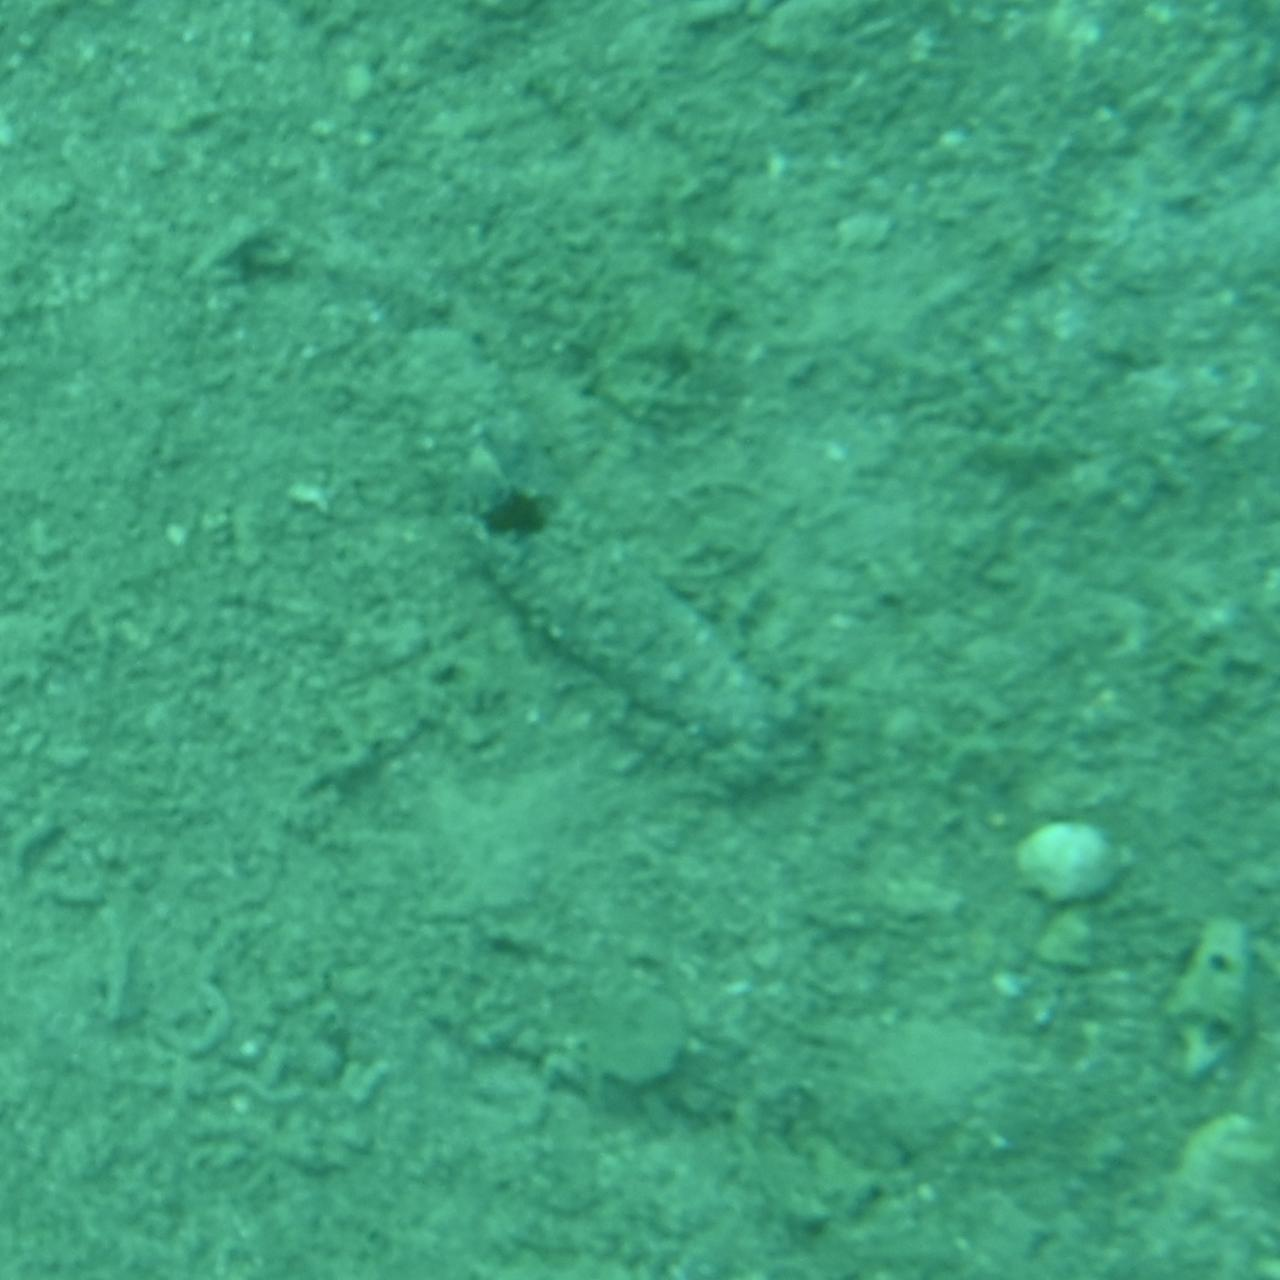Holothuria tubulosa: (456, 484, 824, 796)
